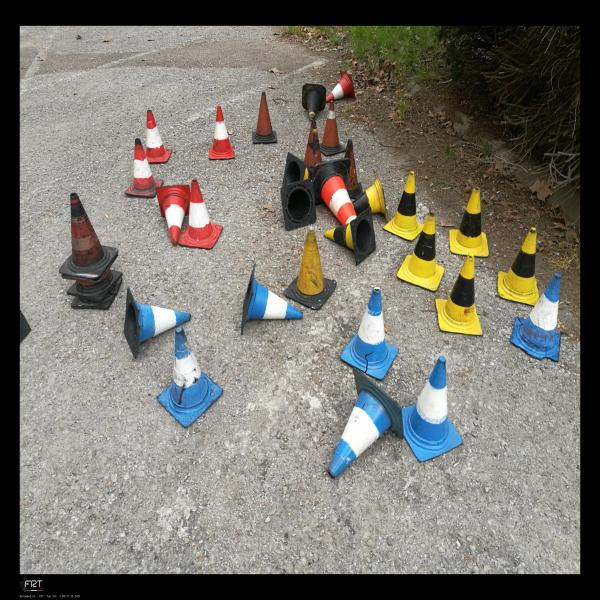blue_cone: (327, 368, 404, 478), (156, 327, 224, 427), (402, 356, 463, 462), (340, 287, 399, 380), (124, 287, 191, 358), (510, 273, 561, 362), (241, 264, 303, 335)
large_orange_cone: (312, 158, 357, 225)
orange_cone: (178, 179, 222, 249), (124, 138, 163, 198), (156, 184, 190, 246), (144, 110, 172, 163), (209, 106, 235, 160), (326, 71, 355, 103)
unknown_cone: (59, 193, 118, 278), (284, 226, 337, 310), (281, 178, 316, 230), (320, 101, 346, 156), (252, 92, 277, 144), (344, 139, 363, 198), (302, 84, 326, 123), (304, 120, 322, 168)
yellow_cone: (397, 212, 445, 292), (436, 253, 482, 335), (497, 227, 539, 306), (324, 206, 376, 266), (449, 187, 489, 258), (383, 171, 424, 240), (352, 171, 388, 223), (282, 152, 313, 186)
